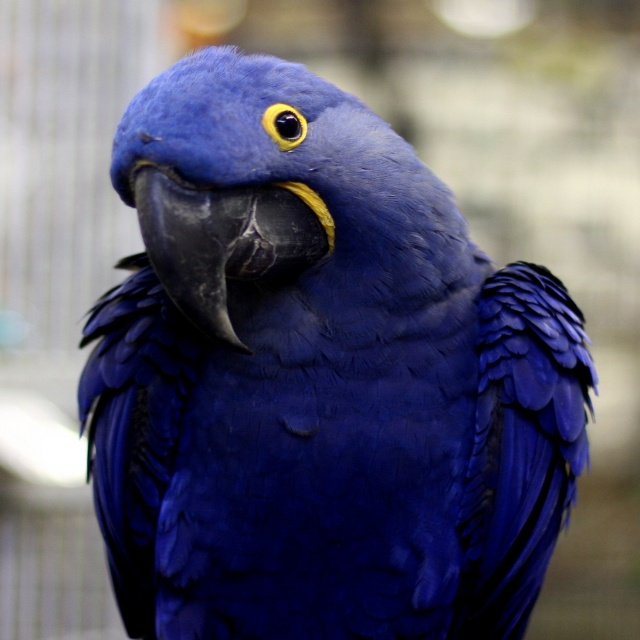Parrot: (76, 44, 601, 639)
